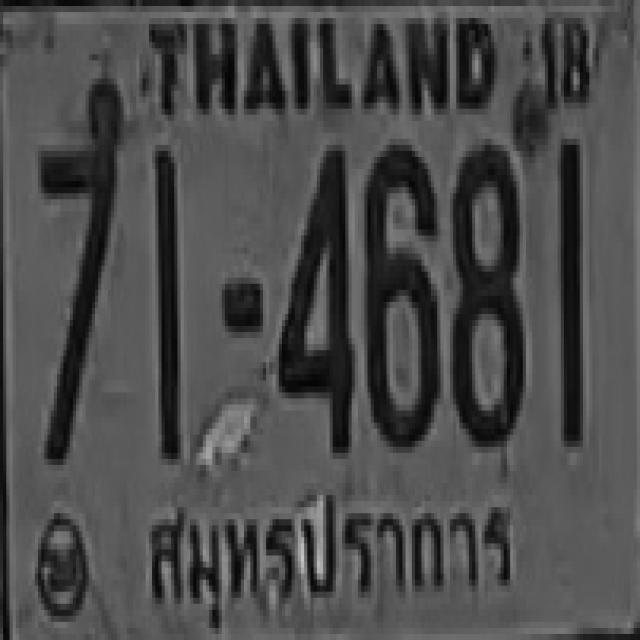1: (154, 145, 179, 459), (558, 139, 580, 441)
4: (276, 138, 355, 452)
6: (363, 142, 442, 452)
7: (38, 136, 120, 462)
8: (450, 138, 527, 444)
SamutPrakan: (138, 468, 524, 625)
